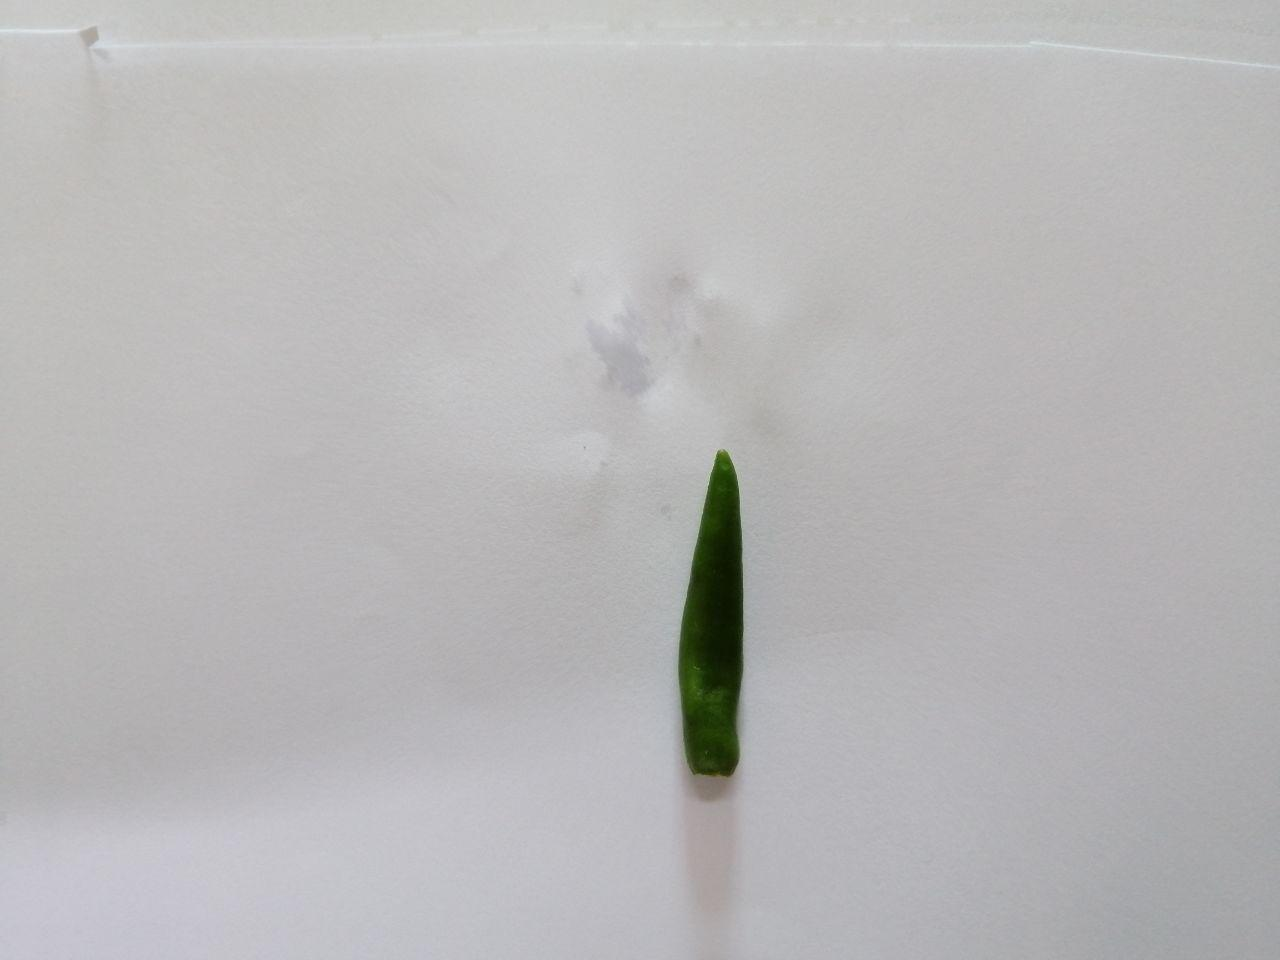lada hijau: (656, 440, 777, 787)
